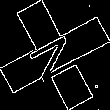N_NE: (23, 26, 87, 84)
